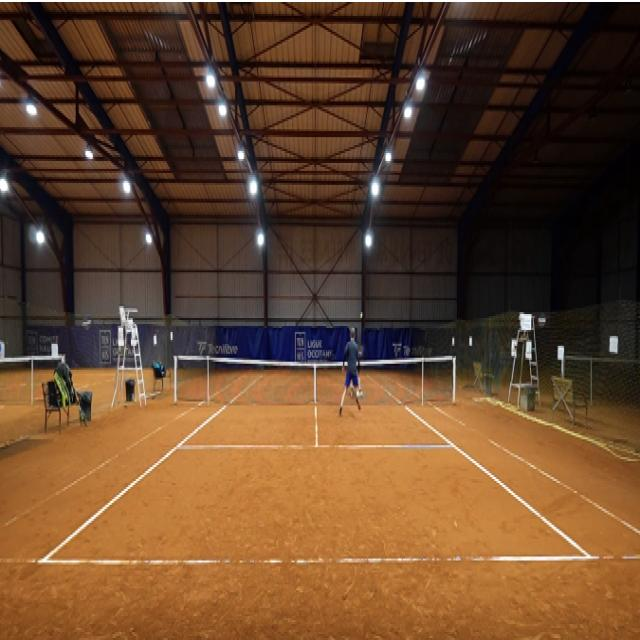ball: (359, 311, 363, 319)
